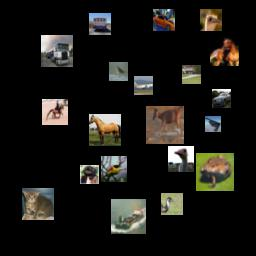airplane: (134, 76, 153, 95), (205, 116, 221, 132)
automobile: (153, 9, 175, 31), (212, 89, 231, 108)
bird: (168, 146, 194, 172), (101, 156, 127, 182), (161, 193, 183, 215), (200, 9, 222, 31), (109, 62, 128, 81)
cat: (22, 188, 54, 220)
deer: (146, 106, 184, 144)
dog: (80, 165, 99, 184)
frog: (196, 153, 234, 191)
ship: (111, 199, 146, 234)
truck: (41, 35, 73, 67), (89, 13, 111, 35), (182, 65, 201, 84)
